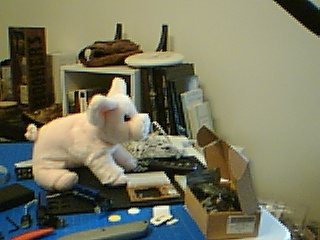piggy: (23, 77, 152, 193)
